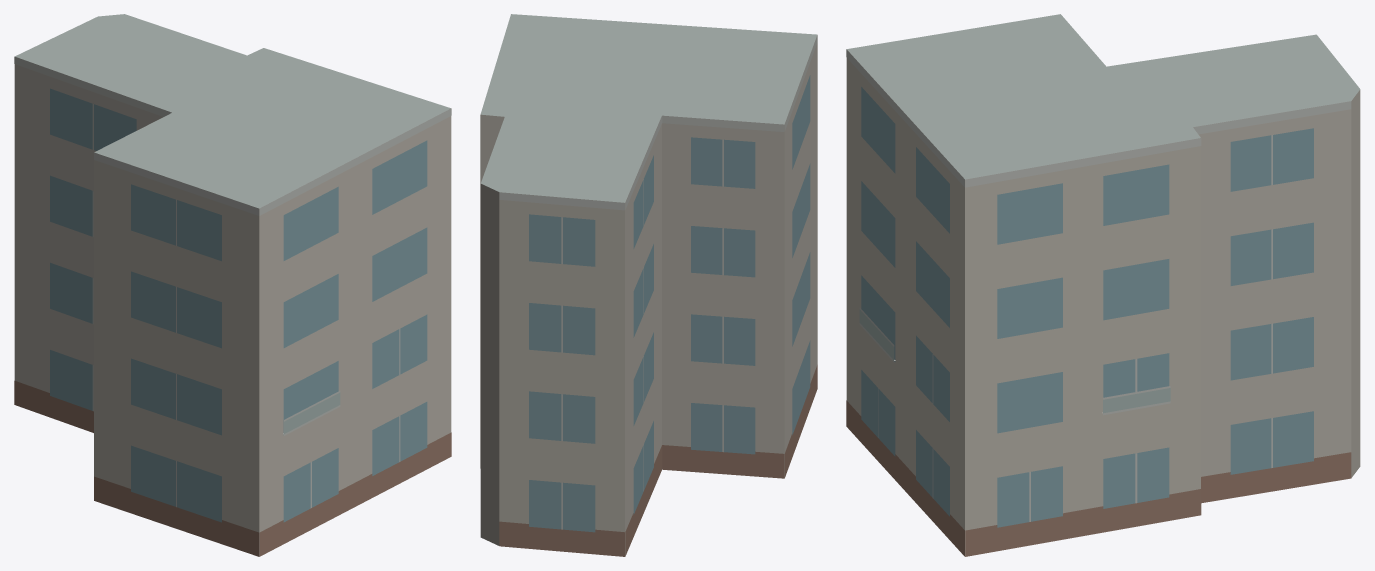
Rendered from survey-upis-32806533.glb.
3 renders of one model, left to right at view 1: azimuth 30°, elevation 25°; view 2: azimuth 150°, elevation 25°; view 3: azimuth 270°, elevation 25°, orthographic. The views are drawn at different scales.
Visible parts, largest first — view 1: survey-upis-32806533.tmp; view 2: survey-upis-32806533.tmp; view 3: survey-upis-32806533.tmp.
Part boxes in pixels (x1,y1,x2,y2): survey-upis-32806533.tmp: [14, 14, 451, 556]; survey-upis-32806533.tmp: [480, 14, 817, 556]; survey-upis-32806533.tmp: [846, 14, 1360, 556].
Size of the model in its own units: 10.71 by 11.37 by 14.05.
